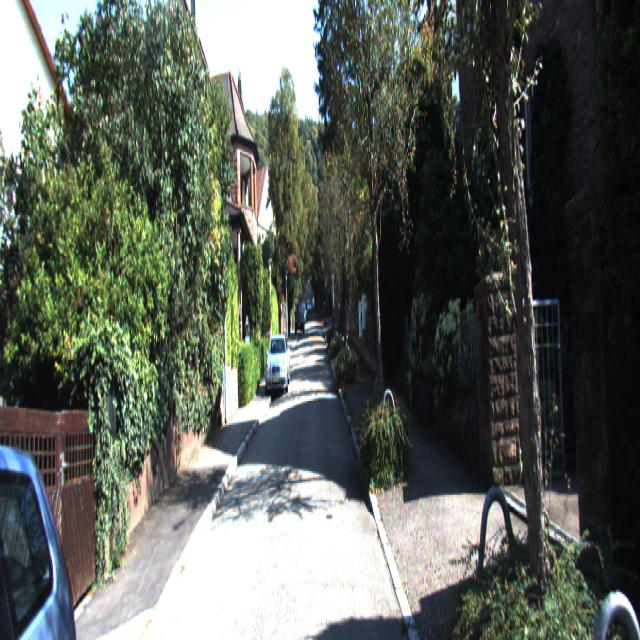Car: (0, 382, 103, 638), (265, 331, 290, 396), (295, 302, 305, 335)
